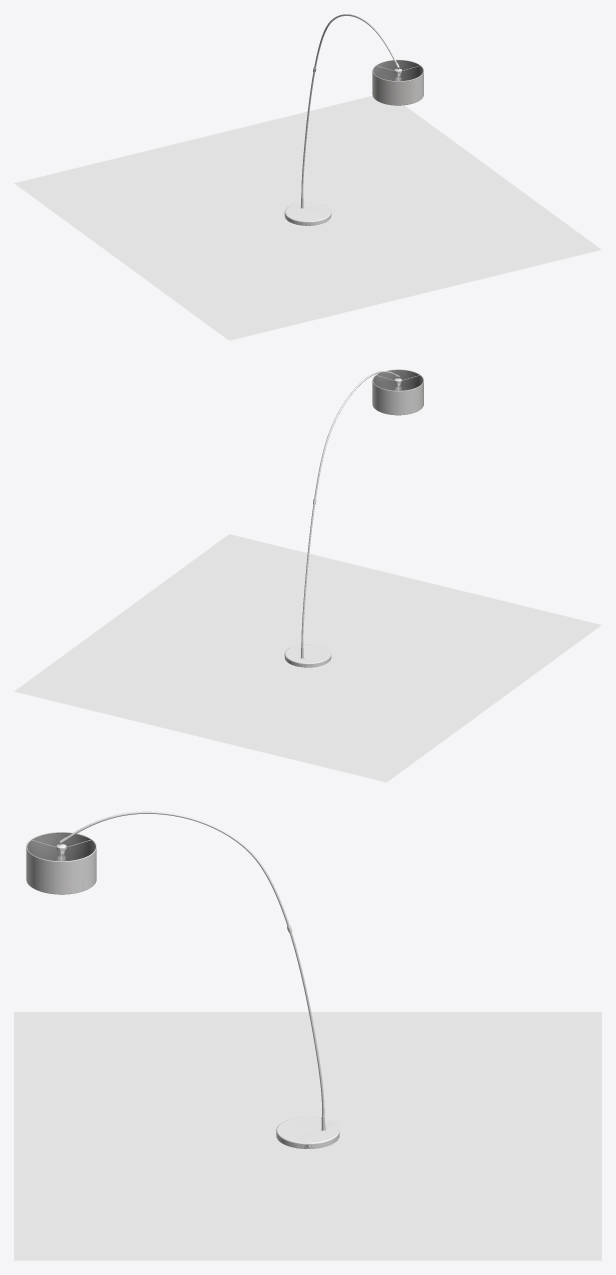
The model's file is sweep_floor_lamp.glb.
3 views of the same model, one above another, from view 1: azimuth 30°, elevation 25°; view 2: azimuth 150°, elevation 25°; view 3: azimuth 270°, elevation 25° (orthographic). The views are drawn at different scales.
Visible parts, largest first — view 1: FLOOR, STEEL_MATT_GREY, LAMP_SHADE, COPPER; view 2: FLOOR, STEEL_MATT_GREY, LAMP_SHADE, COPPER; view 3: FLOOR, STEEL_MATT_GREY, LAMP_SHADE, COPPER.
Boxes of the visible parts, x1,y1,x2,y2 form: FLOOR: [14, 96, 601, 340]; STEEL_MATT_GREY: [284, 14, 401, 225]; LAMP_SHADE: [372, 59, 423, 105]; COPPER: [373, 60, 423, 81]; FLOOR: [14, 534, 601, 782]; STEEL_MATT_GREY: [284, 371, 401, 667]; LAMP_SHADE: [372, 369, 423, 415]; COPPER: [373, 370, 423, 390]; FLOOR: [14, 1012, 601, 1260]; STEEL_MATT_GREY: [56, 811, 339, 1148]; LAMP_SHADE: [26, 832, 96, 894]; COPPER: [27, 833, 95, 861].
Bounding box in the file's own units: 334 × 204 × 334.
8 materials, 7 textured.
